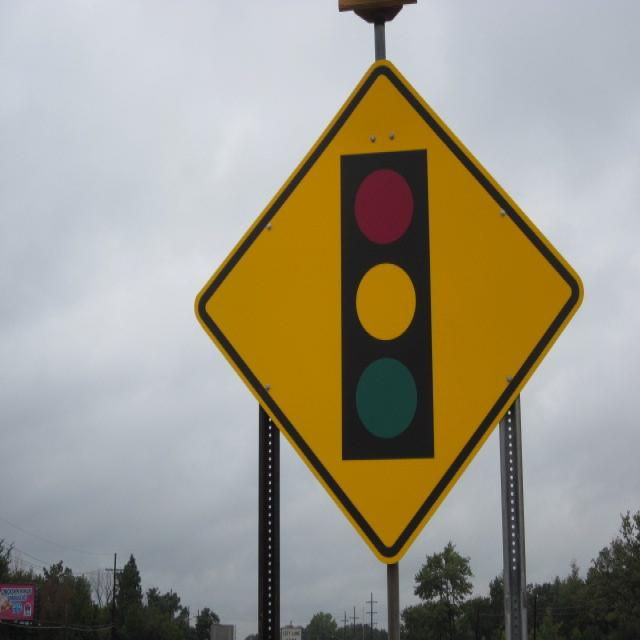warning: (188, 60, 594, 567)
